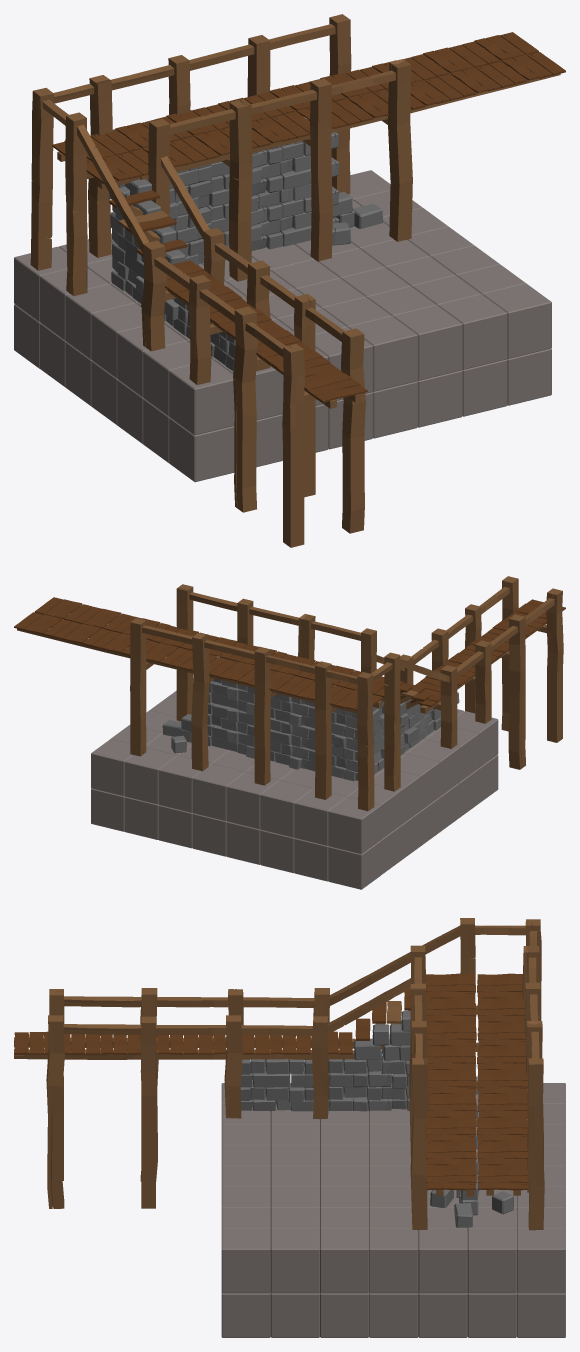
The model's file is Mathilde - Ruin Dims2.fbx.
The picture shows the model from 3 angles, top to bottom: view 1: azimuth 30°, elevation 25°; view 2: azimuth 150°, elevation 25°; view 3: azimuth 270°, elevation 25°; orthographic projection. The views are drawn at different scales.
Visible parts, largest first — view 1: BUND, pLANKER, vÆG 1, Cube.005, Cube.024, Cube.004, Cube.046, bUND 2, Cube.033, Cube.032, Cube.057, Cube.037 (+19 smaller); view 2: bUND 2, BUND, pLANKER, vÆG 1, Cube.024, Cube.004, Cube.005, Cube.052, Cube.057, Cube.053, Cube.054, Cube.051 (+16 smaller); view 3: BUND, pLANKER, bUND 2, vÆG, Cube.005, Cube.046, Cube.045, Cube.033, Cube.051, Cube.031, Cube.060, Cube.049 (+13 smaller).
Boxes of the visible parts, left/top/right/bottom form: BUND: left=40, top=190, right=551, bottom=482; pLANKER: left=52, top=32, right=565, bottom=184; vÆG 1: left=112, top=132, right=339, bottom=272; Cube.005: left=165, top=260, right=367, bottom=402; Cube.024: left=233, top=306, right=257, bottom=512; Cube.004: left=282, top=344, right=304, bottom=547; Cube.046: left=341, top=328, right=365, bottom=533; bUND 2: left=14, top=170, right=390, bottom=368; Cube.033: left=388, top=59, right=412, bottom=241; Cube.032: left=310, top=78, right=332, bottom=261; Cube.057: left=30, top=87, right=53, bottom=270; Cube.037: left=229, top=99, right=252, bottom=281; bUND 2: left=91, top=739, right=380, bottom=889; BUND: left=110, top=678, right=498, bottom=874; pLANKER: left=14, top=597, right=403, bottom=710; vÆG 1: left=207, top=657, right=357, bottom=781; Cube.024: left=508, top=614, right=525, bottom=769; Cube.004: left=546, top=588, right=563, bottom=742; Cube.005: left=410, top=599, right=565, bottom=706; Cube.052: left=191, top=633, right=209, bottom=771; Cube.057: left=357, top=672, right=374, bottom=811; Cube.053: left=254, top=647, right=270, bottom=785; Cube.054: left=315, top=661, right=331, bottom=799; Cube.051: left=130, top=618, right=146, bottom=756; BUND: left=221, top=1083, right=516, bottom=1337; pLANKER: left=425, top=973, right=528, bottom=1190; bUND 2: left=517, top=1083, right=565, bottom=1337; vÆG: left=240, top=1055, right=409, bottom=1111; Cube.005: left=14, top=1031, right=352, bottom=1054; Cube.046: left=46, top=1015, right=64, bottom=1208; Cube.045: left=140, top=1016, right=156, bottom=1208; Cube.033: left=410, top=1058, right=428, bottom=1230; Cube.051: left=527, top=1058, right=544, bottom=1230; Cube.031: left=64, top=996, right=314, bottom=1007; Cube.060: left=63, top=1024, right=312, bottom=1035; Cube.049: left=14, top=1049, right=354, bottom=1060.
Size of the model in its own units: 923 by 495 by 967.
